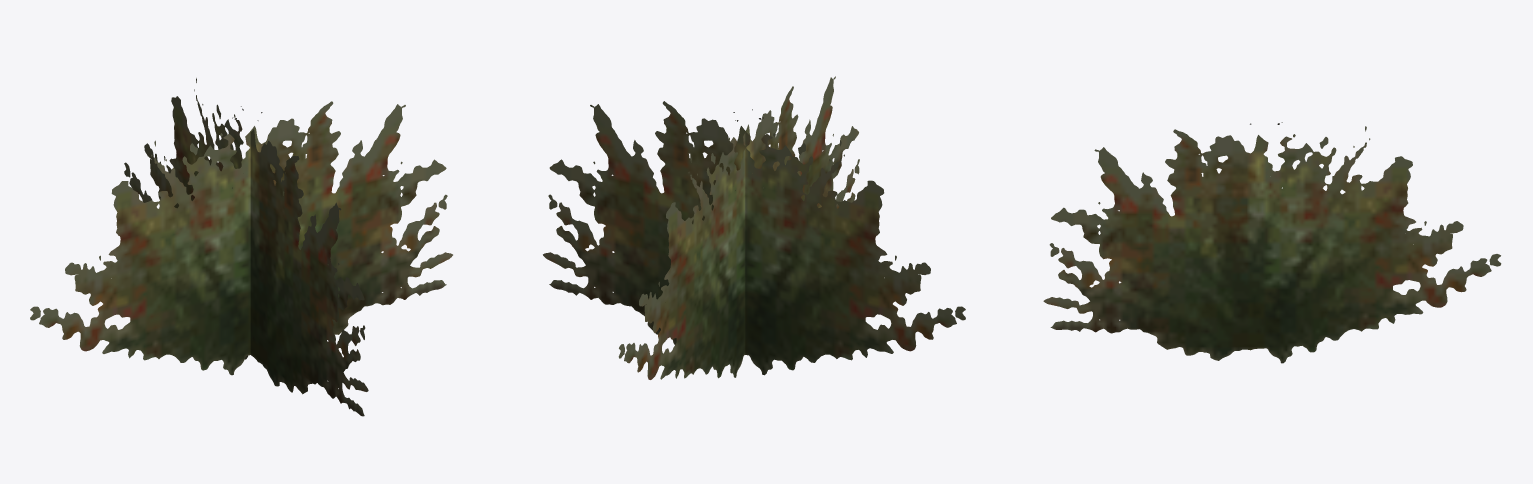
Rendered from shrb_arid_green_flowering_a1_l1.fbx.
3 renders of one model, left to right at view 1: azimuth 30°, elevation 25°; view 2: azimuth 150°, elevation 25°; view 3: azimuth 270°, elevation 25°, orthographic. The views are drawn at different scales.
Visible parts, largest first — view 1: mesh_node; view 2: mesh_node; view 3: mesh_node.
Part boxes in pixels (<box>): mesh_node: <box>30,78,452,416</box>; mesh_node: <box>543,76,965,379</box>; mesh_node: <box>1043,122,1501,363</box>.
Size of the model in its own units: 2.57 by 1.34 by 2.57.
1 material, 1 textured.
